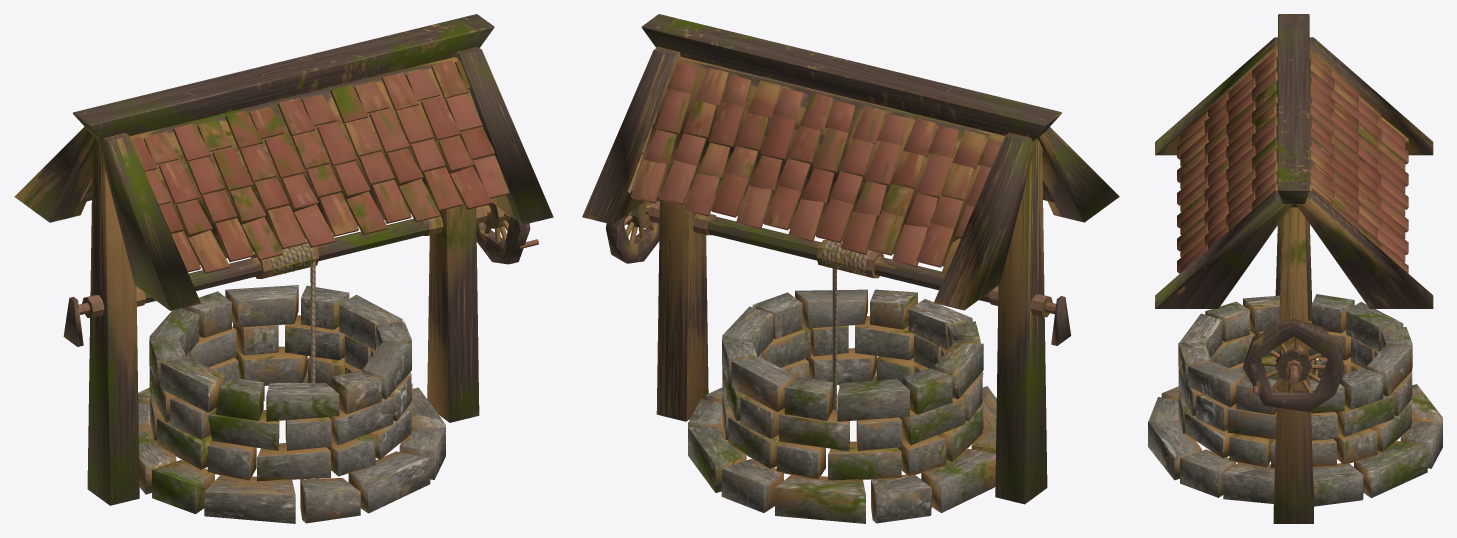
Rendered from well_a.glb.
3 views of the same model, side by side, from view 1: azimuth 30°, elevation 25°; view 2: azimuth 150°, elevation 25°; view 3: azimuth 270°, elevation 25° (orthographic). The views are drawn at different scales.
Visible parts, largest first — view 1: polySurface709; view 2: polySurface709; view 3: polySurface709.
Boxes of the visible parts, left/top/right/bottom form: polySurface709: left=14, top=14, right=553, bottom=523; polySurface709: left=582, top=14, right=1119, bottom=523; polySurface709: left=1148, top=14, right=1442, bottom=523.
Bounding box in the file's own units: 0.1445 × 0.1151 × 0.0895.
1 material, 1 textured.
